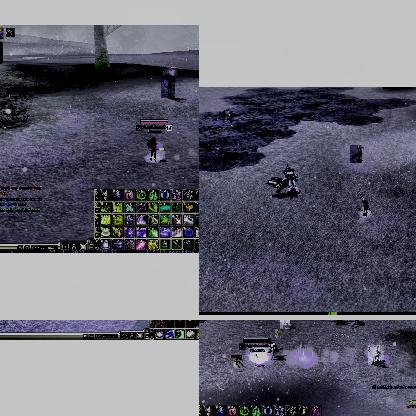caliana: (368, 345, 384, 365), (161, 76, 175, 98), (350, 145, 362, 163), (342, 320, 360, 327), (163, 67, 177, 75), (280, 320, 290, 329), (225, 111, 231, 123), (327, 320, 342, 324)
